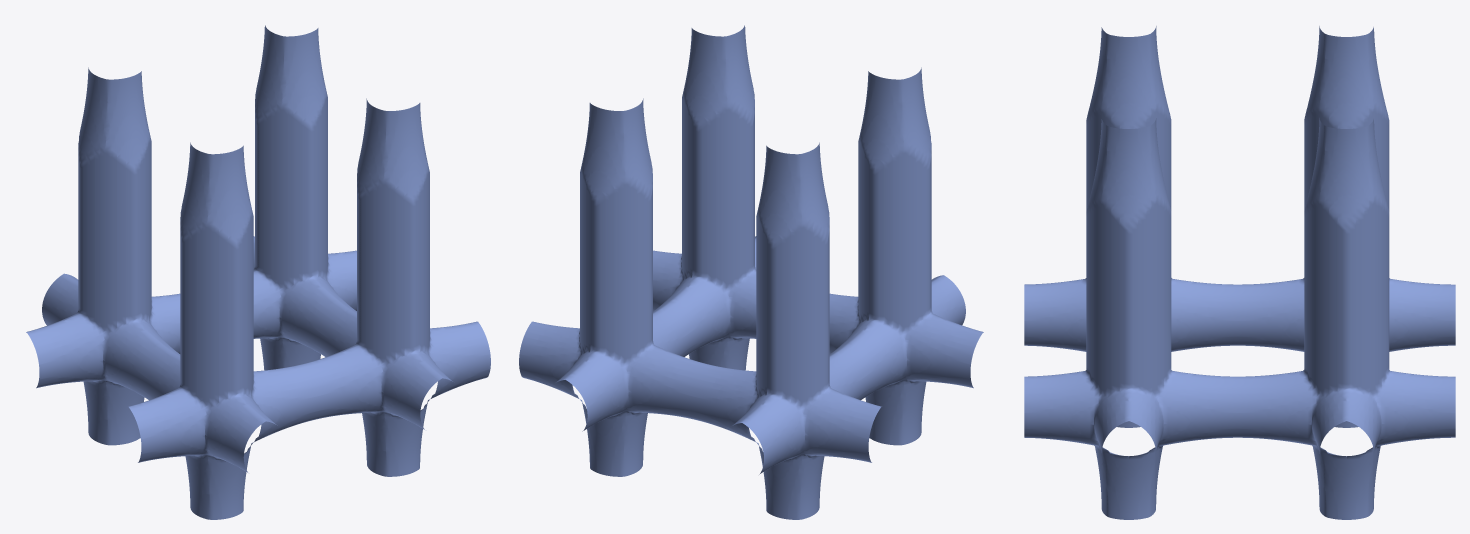
3 views of the same model, side by side, from view 1: azimuth 30°, elevation 25°; view 2: azimuth 150°, elevation 25°; view 3: azimuth 270°, elevation 25° (orthographic). The views are drawn at different scales.
Parts seen in each view (by area): view 1: world; view 2: world; view 3: world.
Boxes of the visible parts, left/top/right/bottom form: world: left=26, top=25, right=490, bottom=519; world: left=519, top=25, right=983, bottom=519; world: left=1024, top=26, right=1455, bottom=519.
Size of the model in its own units: 99 by 99 by 99.
